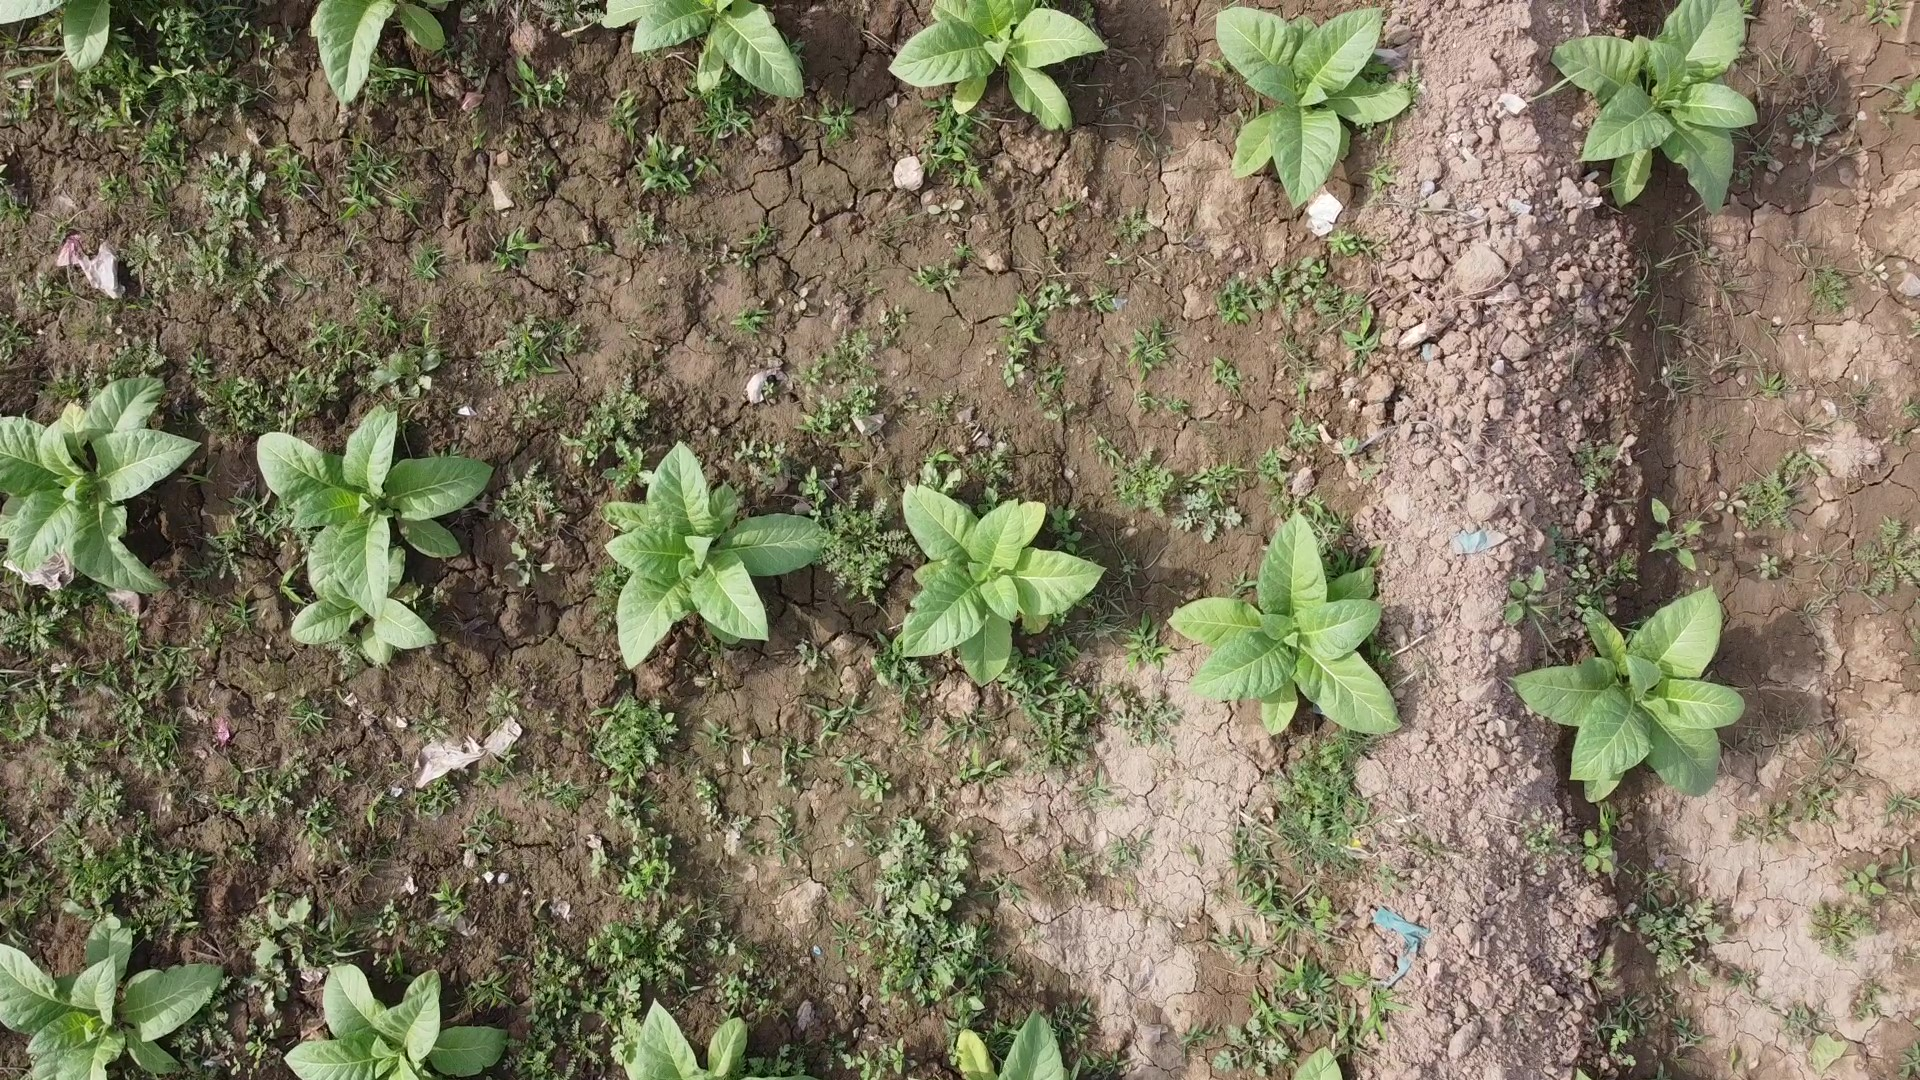weed: (9, 381, 194, 626), (1268, 562, 1446, 775), (1238, 17, 1431, 196), (624, 456, 799, 639), (284, 422, 458, 598), (934, 471, 1085, 669), (1604, 13, 1741, 222), (34, 947, 202, 1065), (960, 15, 1119, 136), (303, 971, 476, 1074), (1580, 622, 1720, 736), (646, 0, 796, 84), (624, 1014, 790, 1080), (945, 1027, 1098, 1080), (306, 0, 387, 71), (56, 6, 125, 58)
